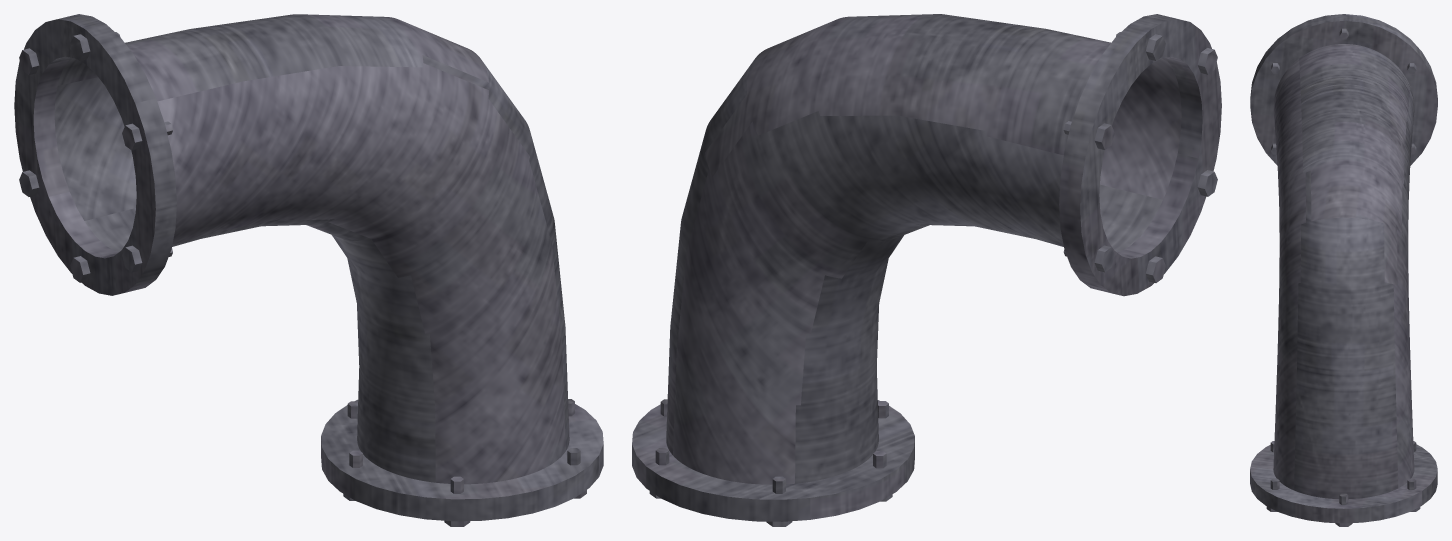
The model's file is Pipe_L.fbx.
The picture shows the model from 3 angles, left to right: view 1: azimuth 30°, elevation 25°; view 2: azimuth 150°, elevation 25°; view 3: azimuth 270°, elevation 25°; orthographic projection. The views are drawn at different scales.
Parts seen in each view (by area): view 1: Pipe L; view 2: Pipe L; view 3: Pipe L.
Part boxes in pixels (x1,y1,x2,y2): Pipe L: (14, 14, 603, 526); Pipe L: (632, 14, 1221, 526); Pipe L: (1250, 14, 1437, 526).
Bounding box in the file's own units: 569 × 570 × 275.
